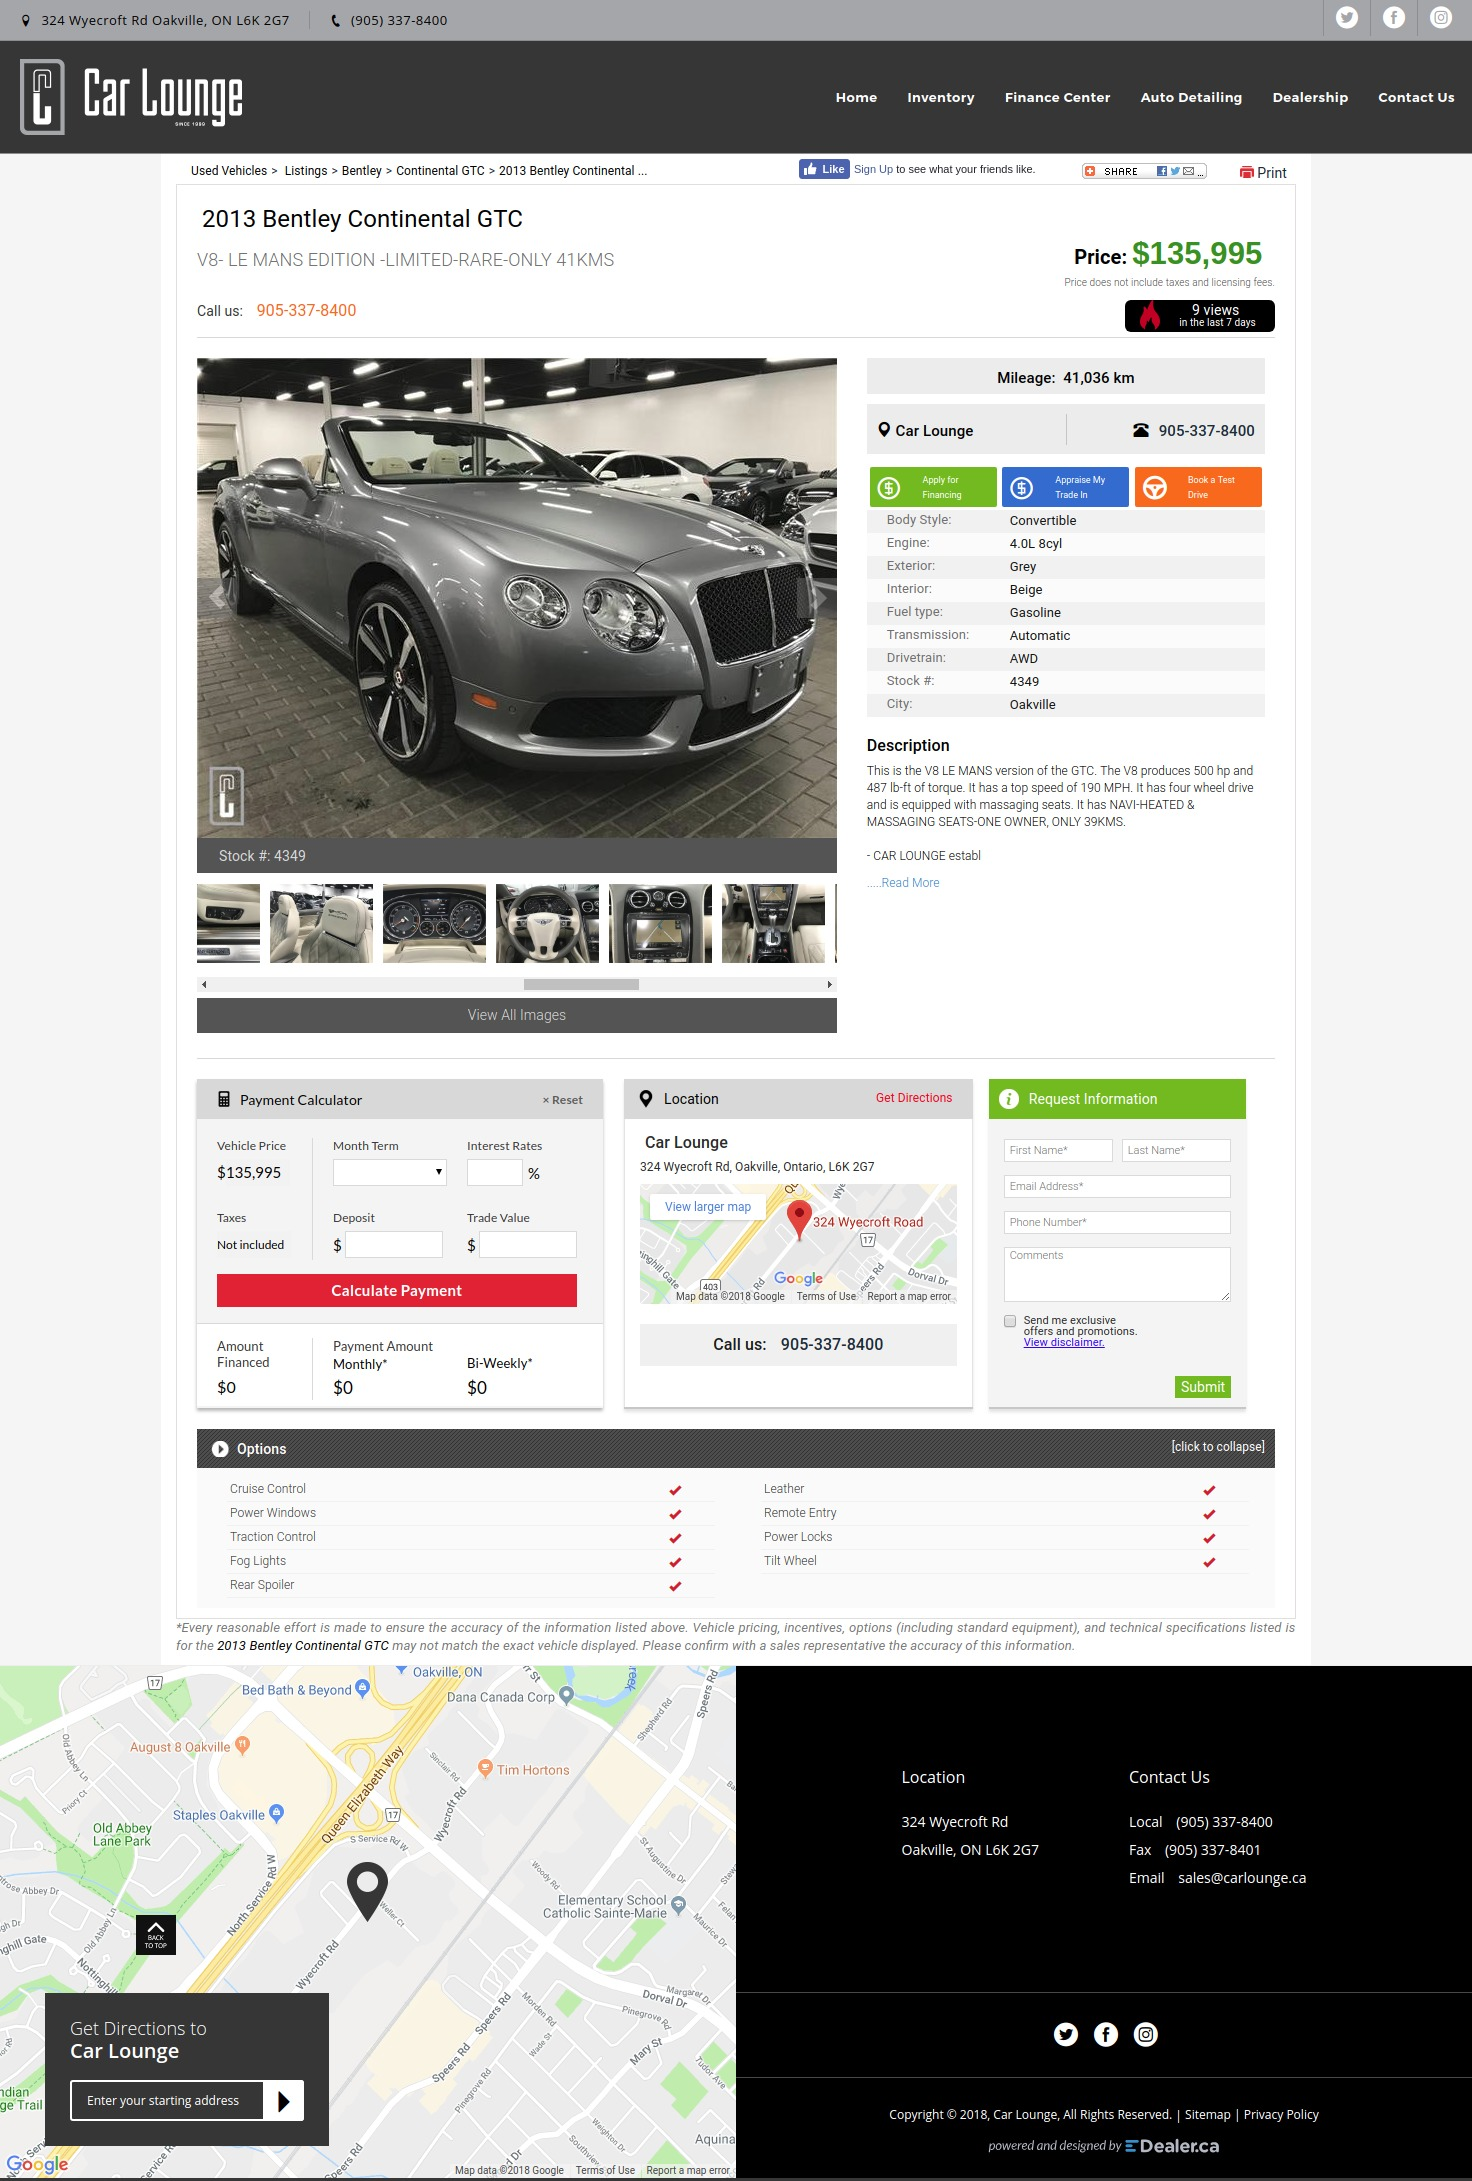car: (826, 980, 835, 990)
